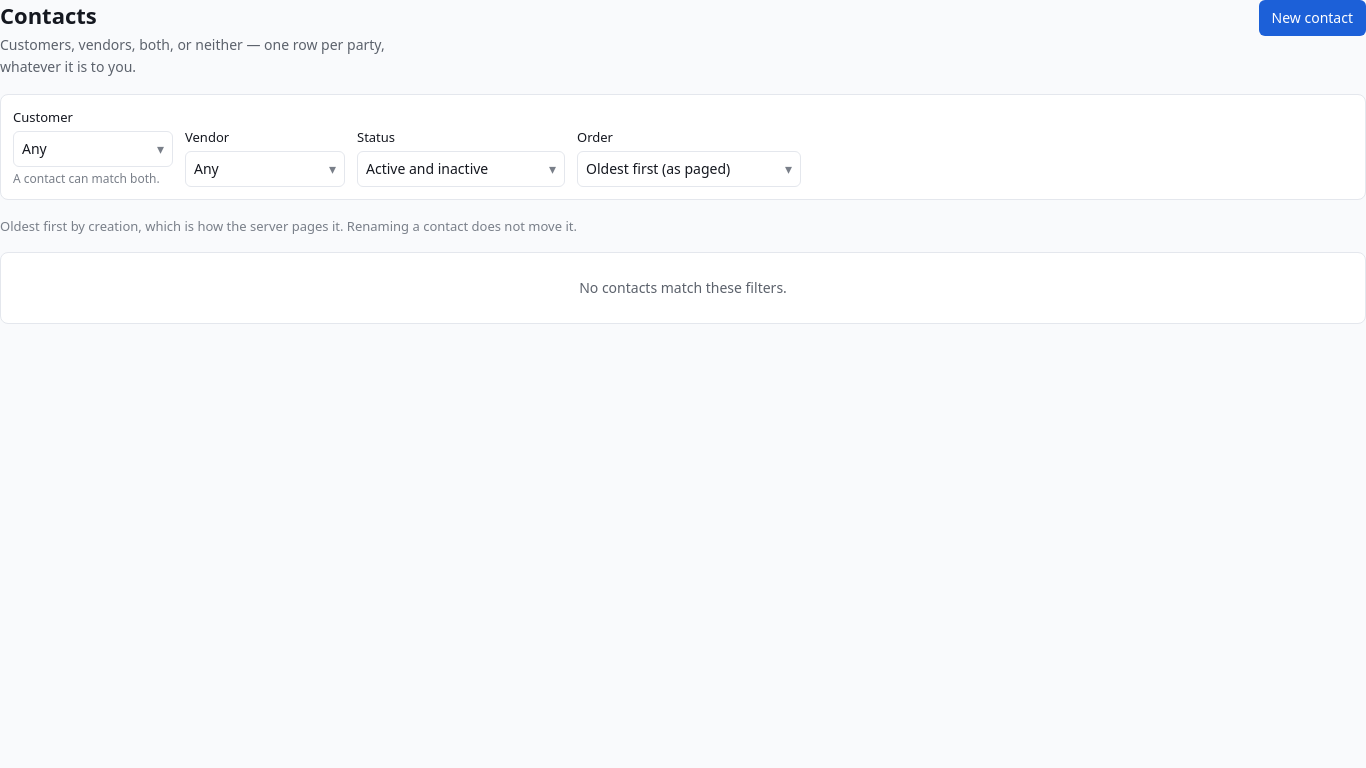
ContactsScreen › round-trips a contact that is neither customer nor vendor through the form
Expected: the text "No contacts match these filters." is shown, [0, 252, 1365, 324]
Click the button "New contact" at (1312, 18), box [1259, 0, 1365, 36]
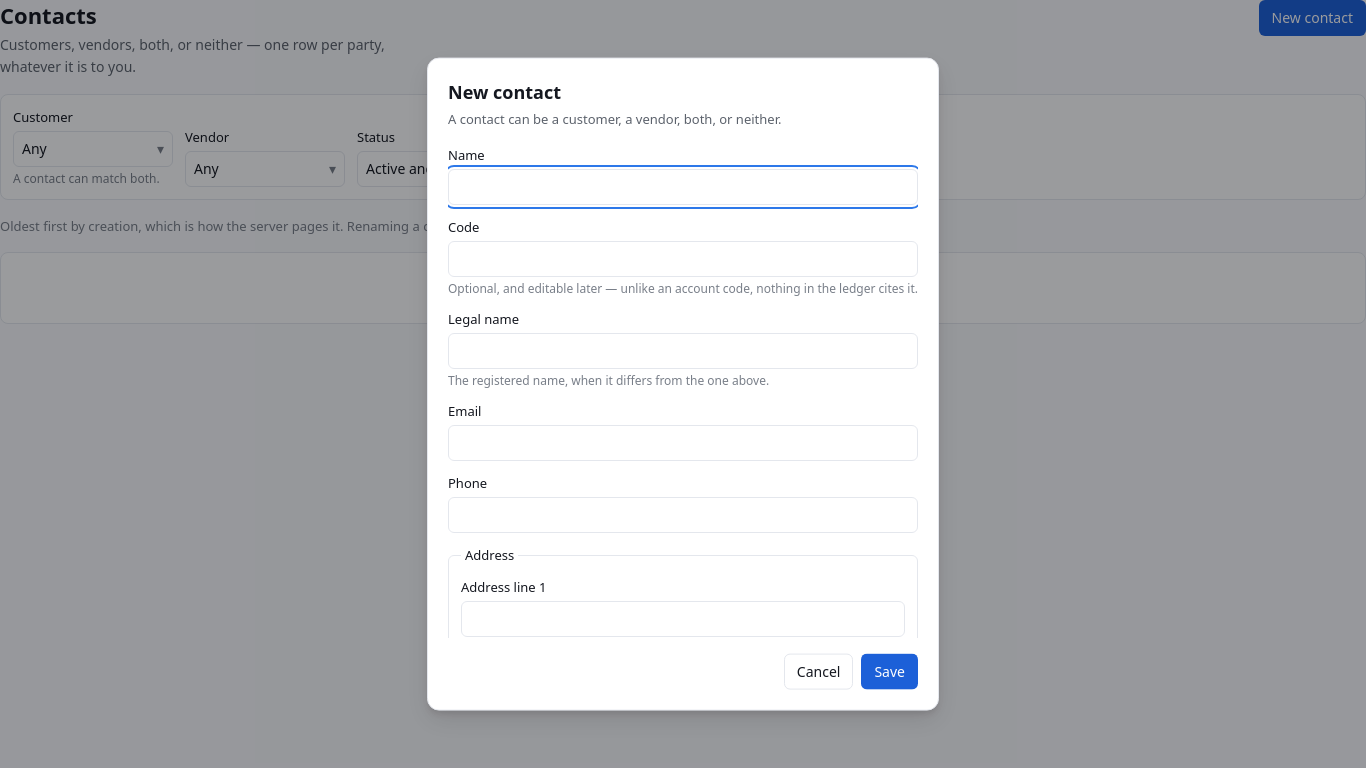
Type "Priya Raman" into the field labelled "Name" at (683, 187), box [448, 169, 918, 205]
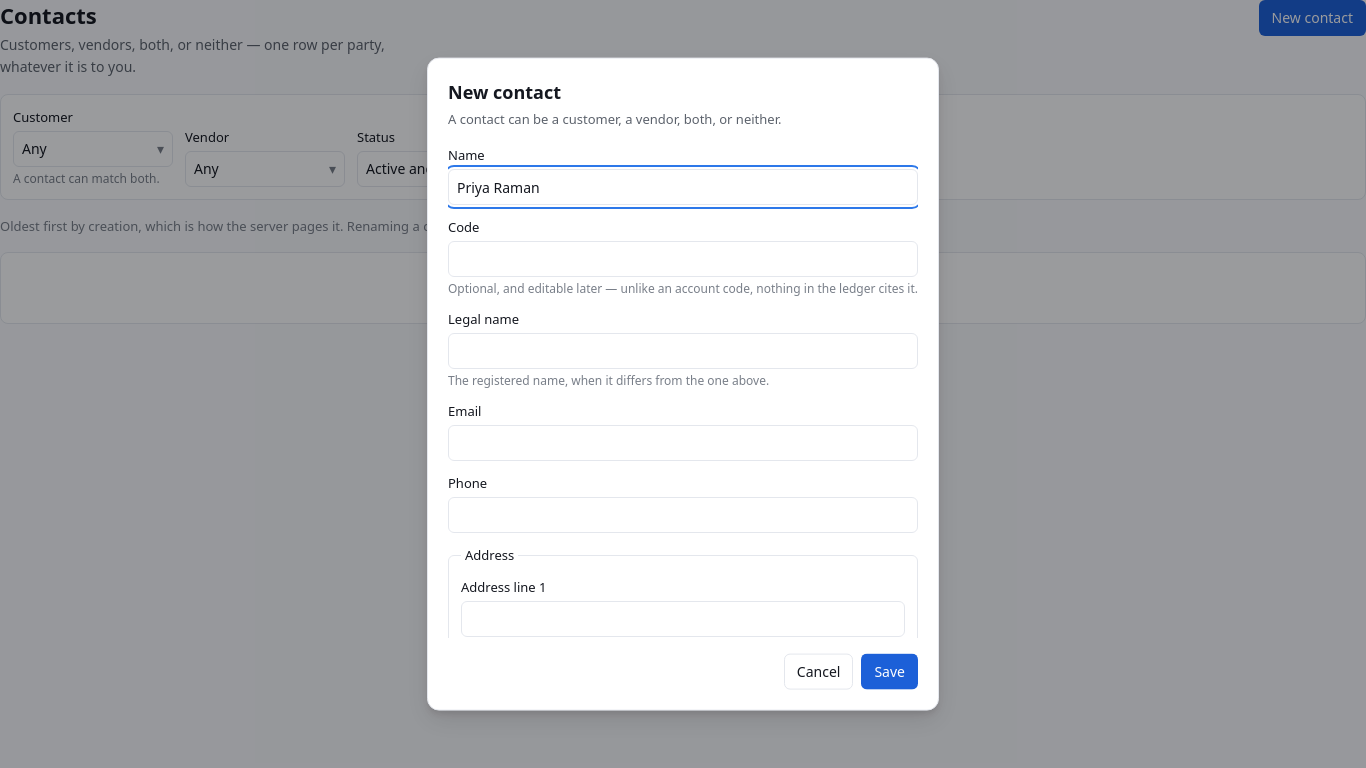
Type "EMP-14" into the field labelled "Code" at (683, 259), box [448, 241, 918, 277]
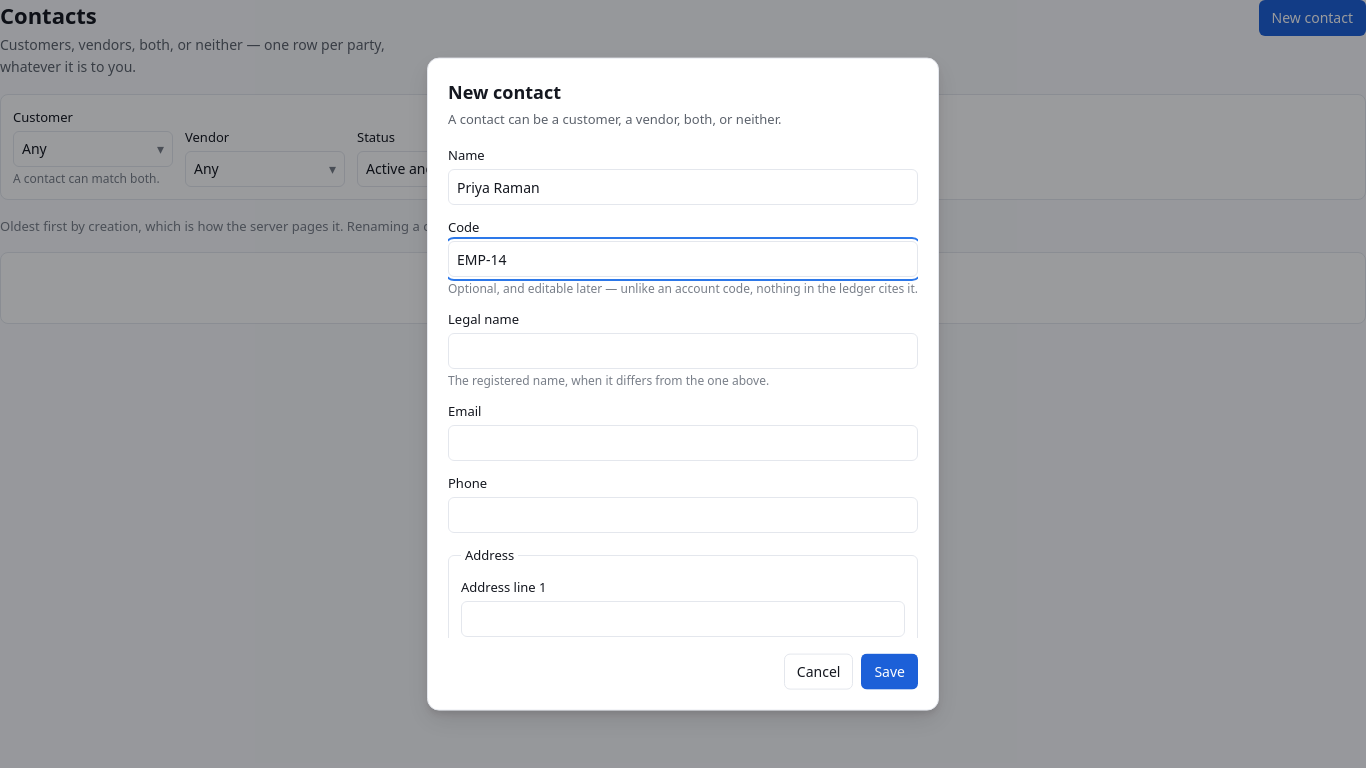
Click the button "Save" at (890, 671), box [861, 653, 918, 689]
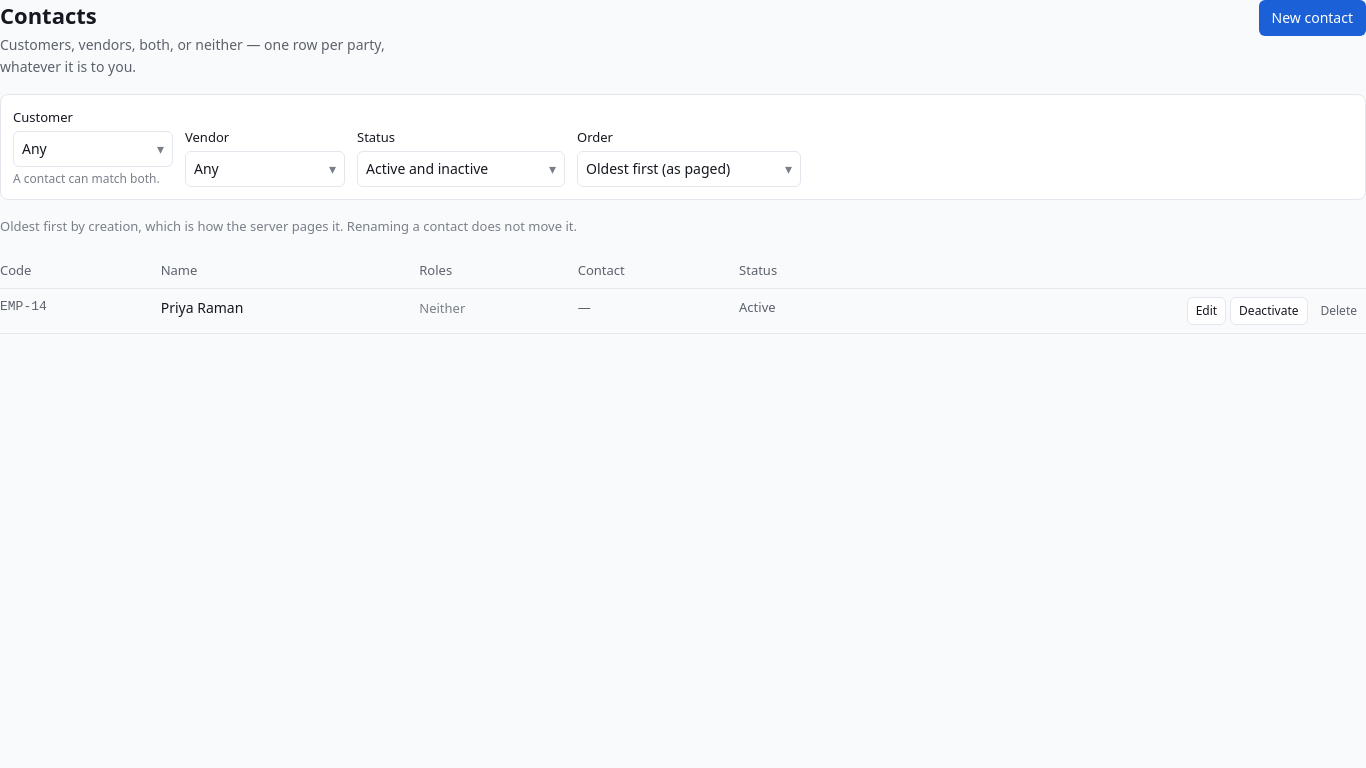
Expected: the text "Neither" is shown, [419, 299, 465, 317]
Click the button with aria-label "Edit Priya Raman" at (1206, 311), box [1187, 297, 1226, 325]
(page scrolled)
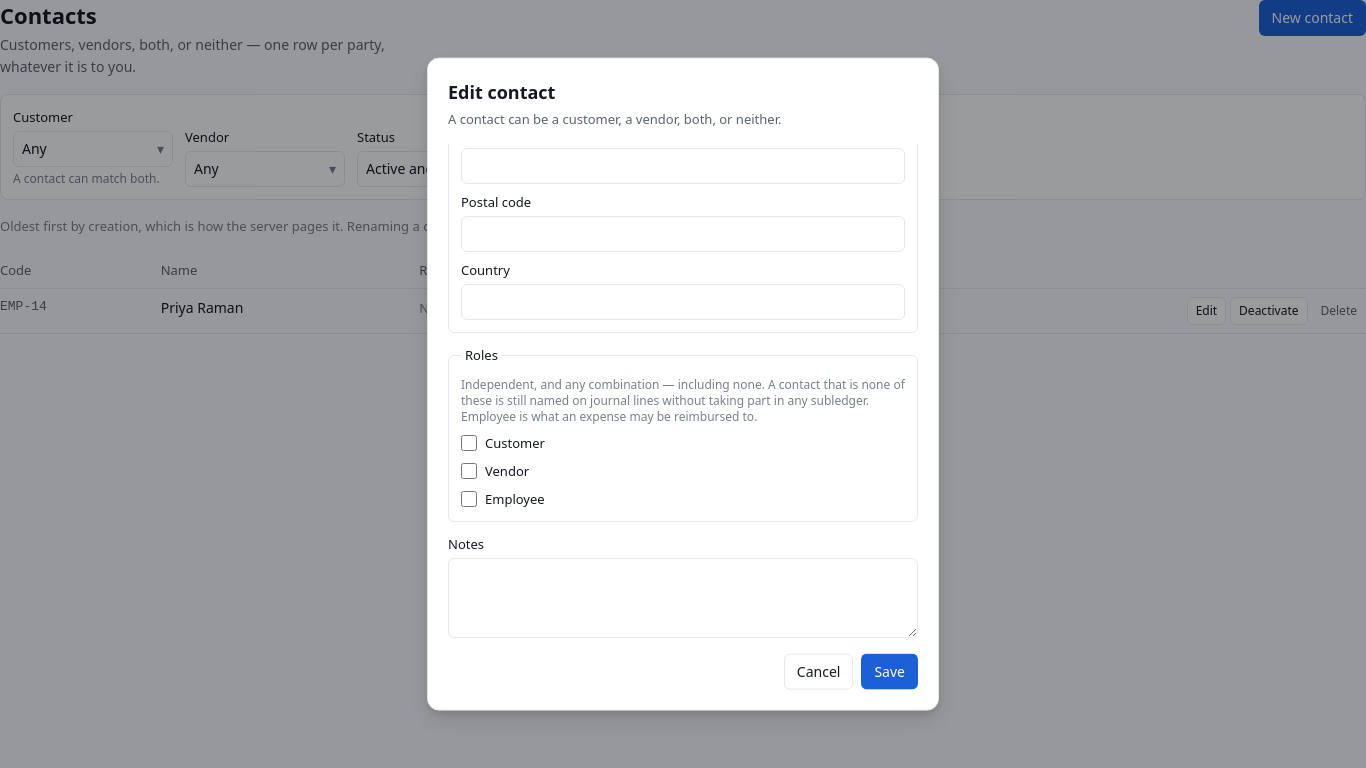
Expected: the checkbox labelled "Customer" is not checked, [461, 435, 477, 451]
Expected: the checkbox labelled "Vendor" is not checked, [461, 463, 477, 479]
